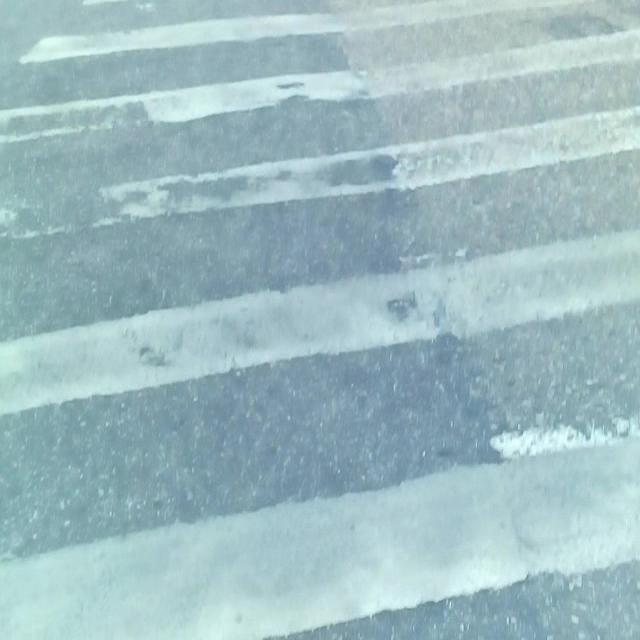crosswalk: (0, 0, 640, 640)
